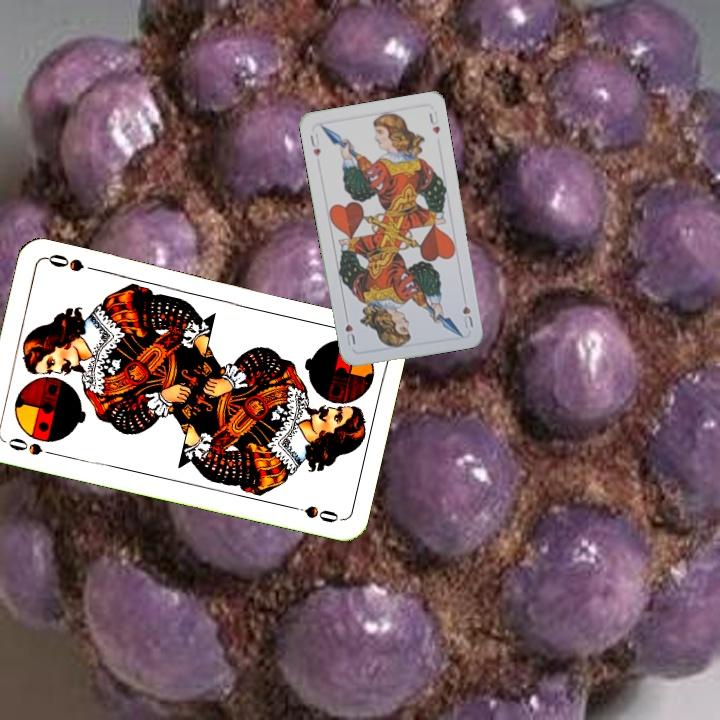HU: (458, 302, 476, 331), (306, 130, 323, 160)
SO: (1, 434, 59, 459)
